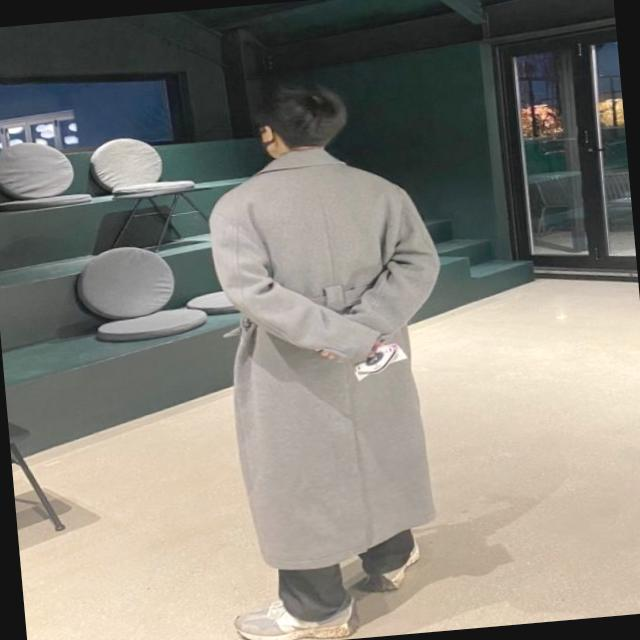coat: (199, 139, 466, 576)
slacks: (270, 529, 418, 621)
